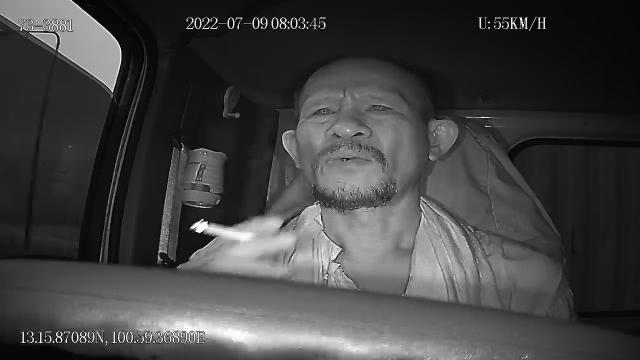SafeDriving: (360, 95, 400, 118), (304, 102, 341, 124)
Smoking: (188, 218, 258, 244)
